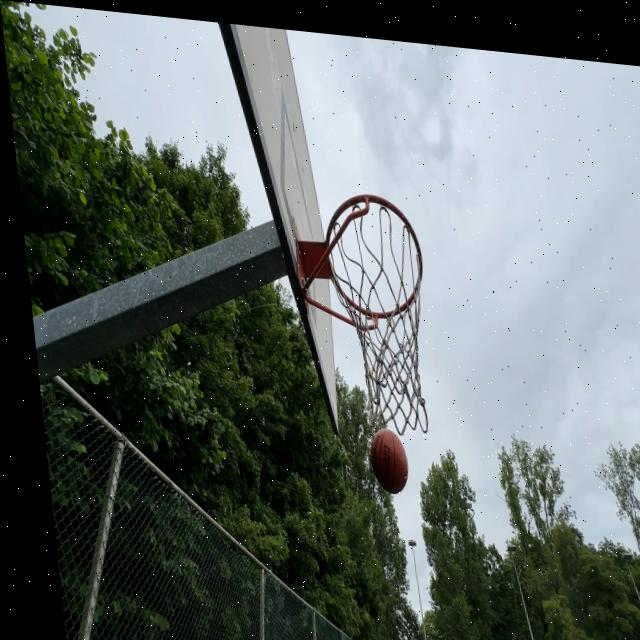Basketball: (369, 428, 412, 495)
